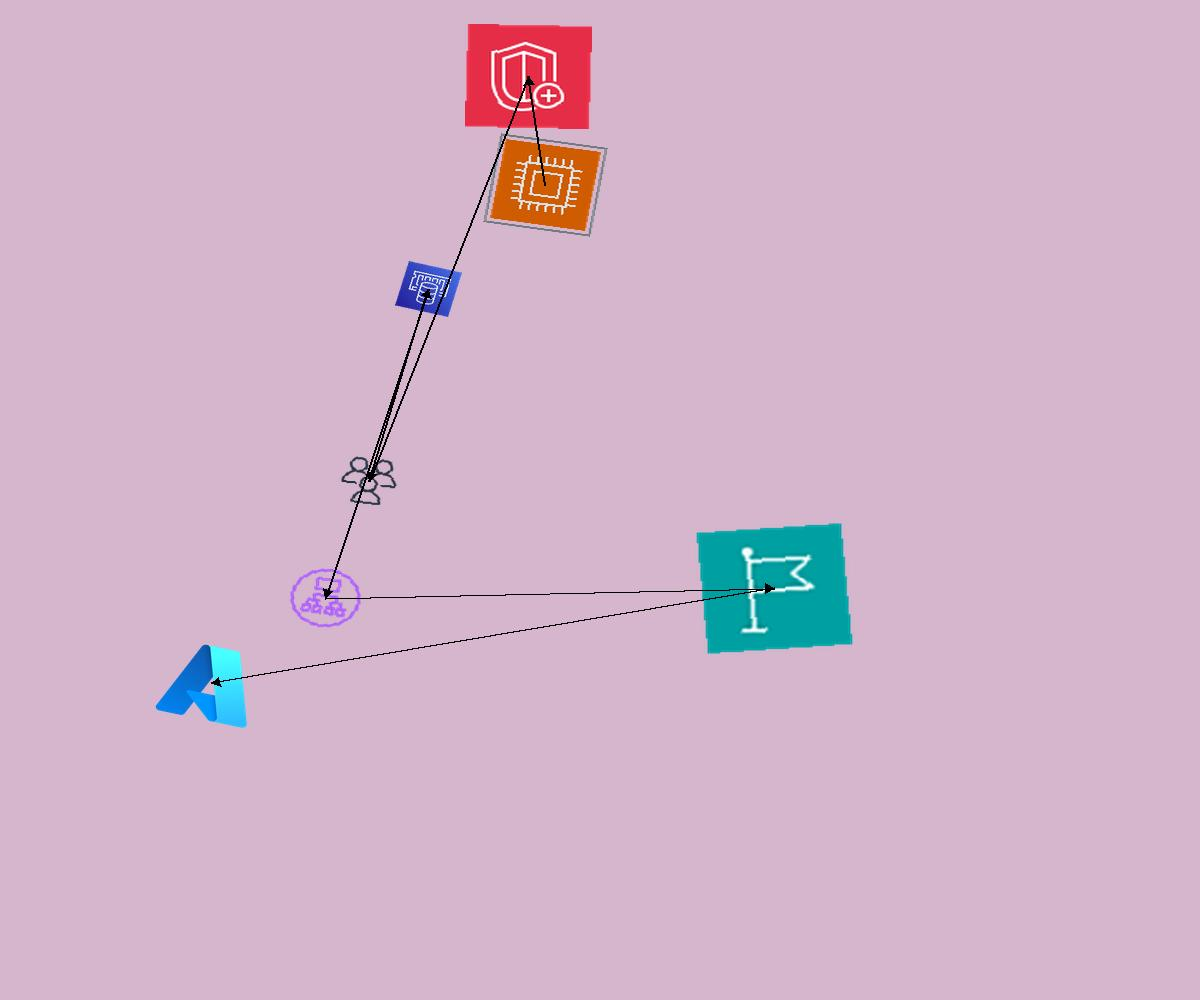AWS-Category_Compute: (483, 133, 608, 237)
AWS-ElastiCache: (395, 261, 462, 317)
AWS-Region: (695, 522, 854, 655)
AWS-Res_Elastic-Load-Balancing_Application-Load-Balancer: (281, 561, 370, 635)
AWS-Res_Users: (334, 452, 404, 510)
AWS-Shield: (465, 24, 592, 129)
Azure_services: (149, 632, 273, 735)
